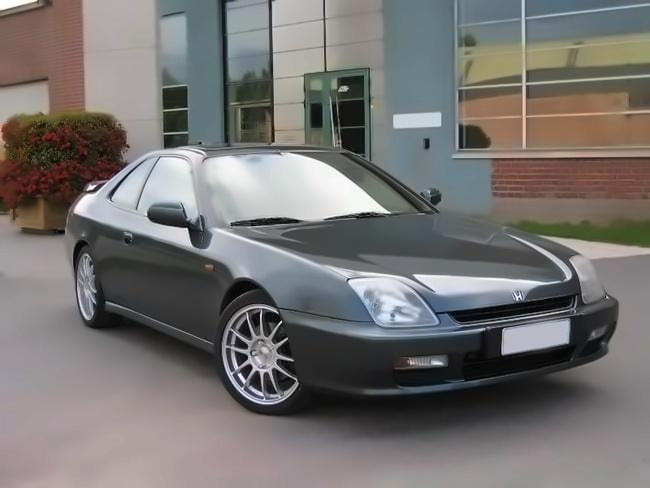Car hood: (218, 207, 599, 301)
Driver-s door - -F-R-: (116, 147, 221, 358)
Front bumper: (274, 292, 628, 404)
Headlight - -L-: (568, 251, 614, 308)
Headlight - -R-: (343, 273, 440, 333)
Rear bumper: (59, 204, 89, 285)
Side bumper - -R-: (99, 292, 219, 384)
Side mirror - -L-: (419, 185, 447, 213)
Side mirror - -R-: (144, 200, 194, 229)
